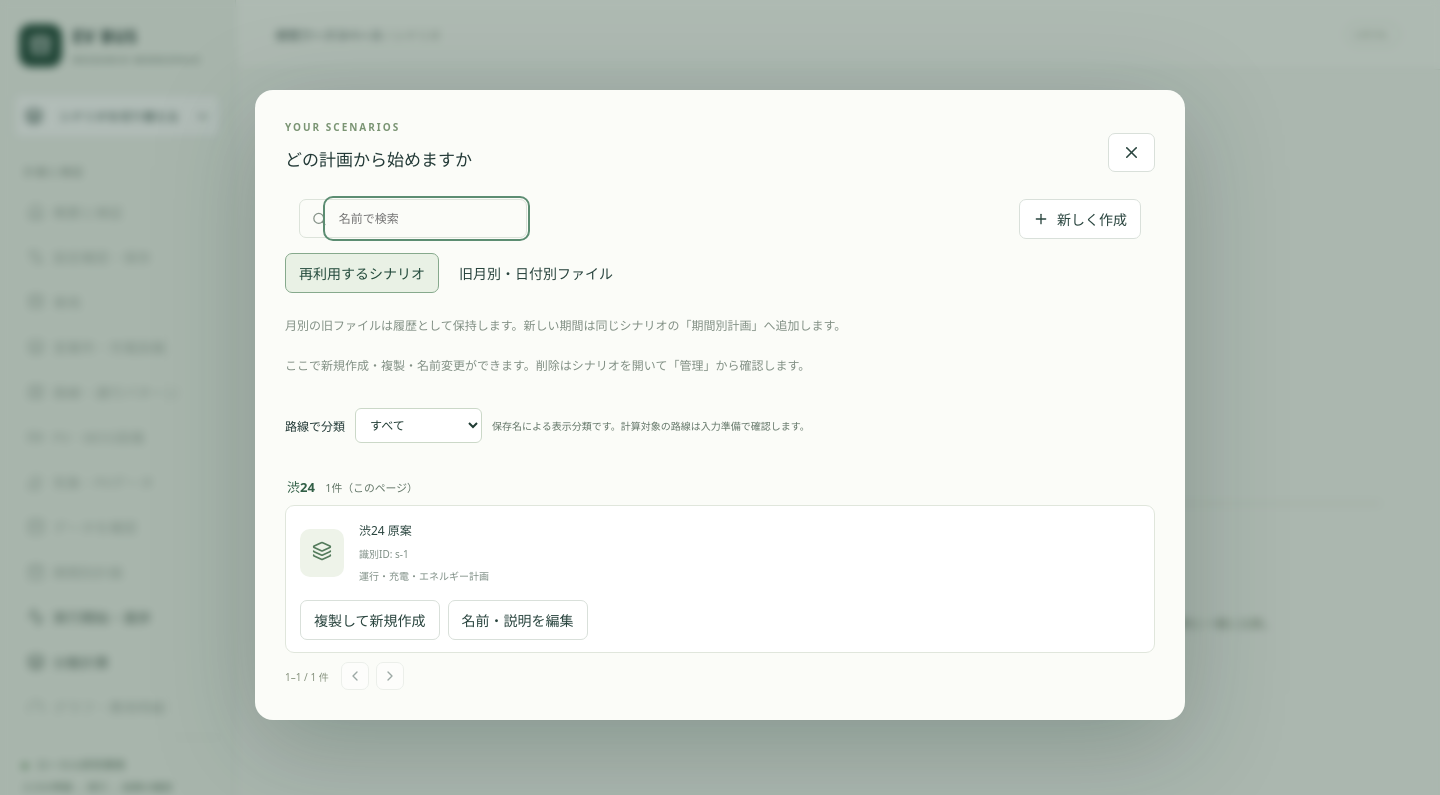
Test case: duplicates a scenario through the existing scenario API and opens the copy
Click the button "複製して新規作成" at (370, 620), box [300,600,440,640]
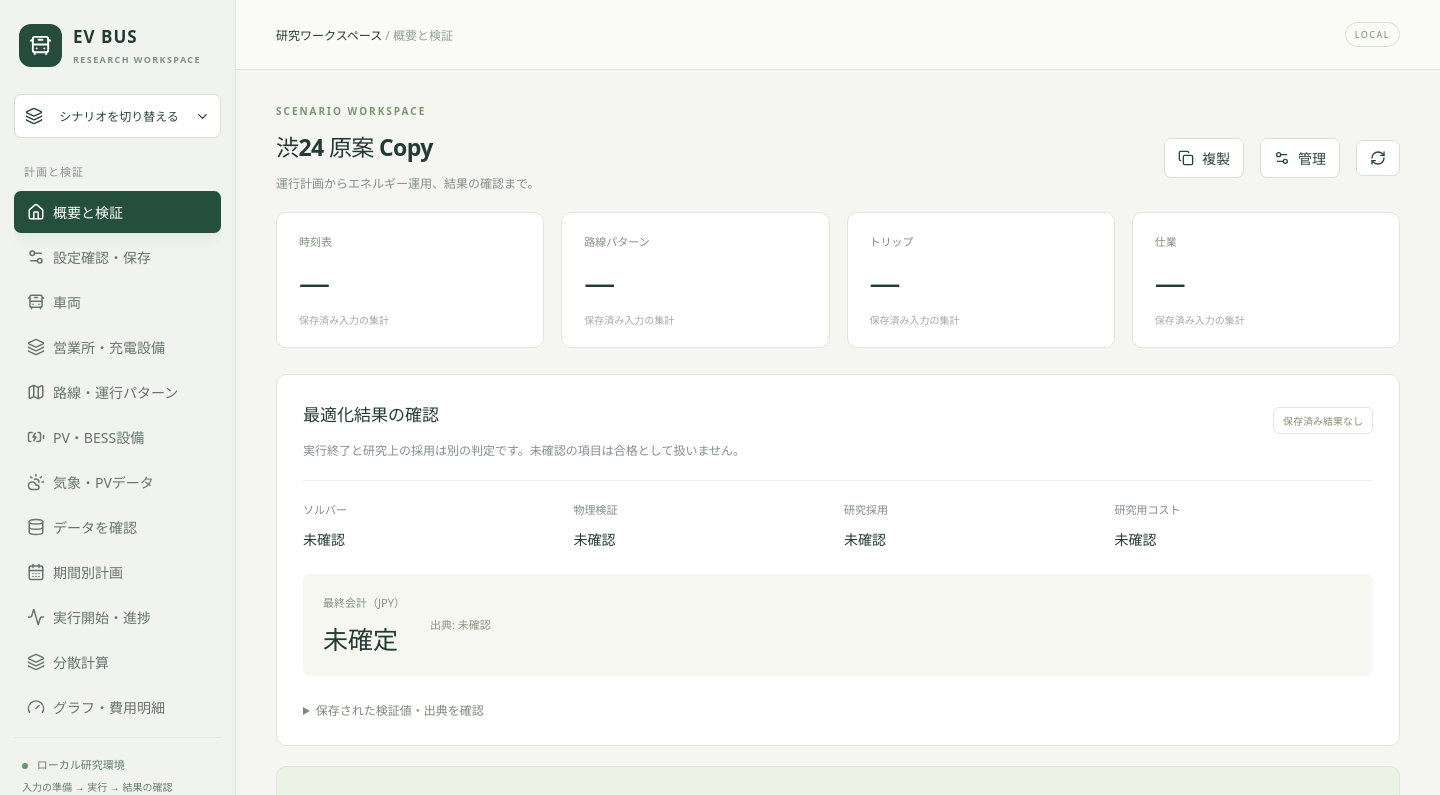
Now the heading "渋24 原案 Copy" is shown, box [276,131,433,163]
